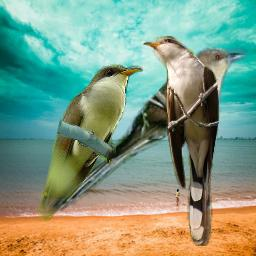Cuckoo: (48, 46, 250, 218), (35, 64, 143, 222), (142, 36, 221, 246)
